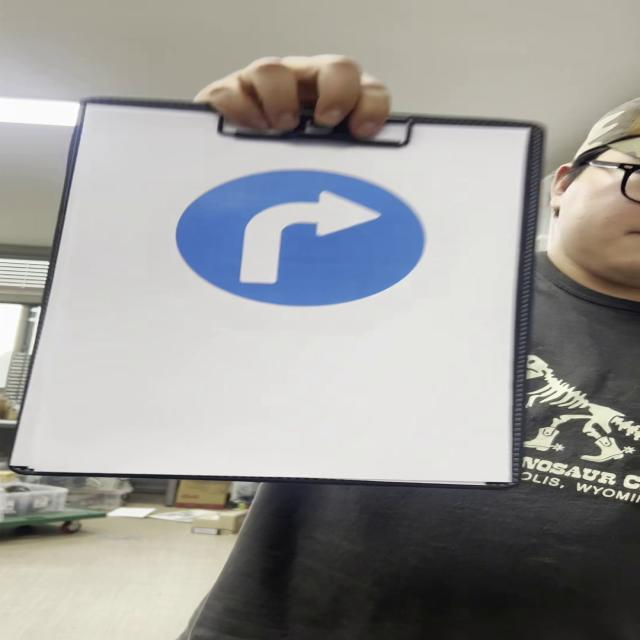right: (178, 171, 431, 311)
